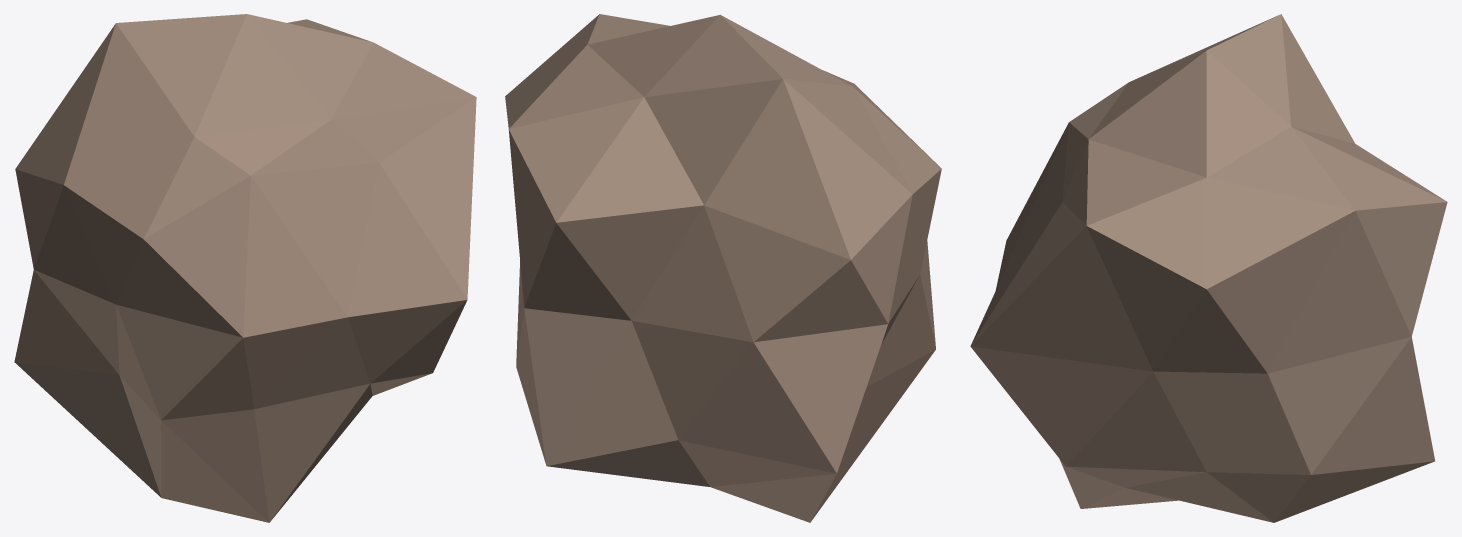
File: roca.glb
The picture shows the model from 3 angles, left to right: view 1: azimuth 30°, elevation 25°; view 2: azimuth 150°, elevation 25°; view 3: azimuth 270°, elevation 25°; orthographic projection. The views are drawn at different scales.
Parts seen in each view (by area): view 1: Roca_Canon; view 2: Roca_Canon; view 3: Roca_Canon.
Boxes of the visible parts, x1,y1,x2,y2 form: Roca_Canon: [14, 14, 476, 522]; Roca_Canon: [505, 14, 941, 522]; Roca_Canon: [970, 14, 1447, 522].
Bounding box in the file's own units: 2.11 × 2.38 × 2.12.
